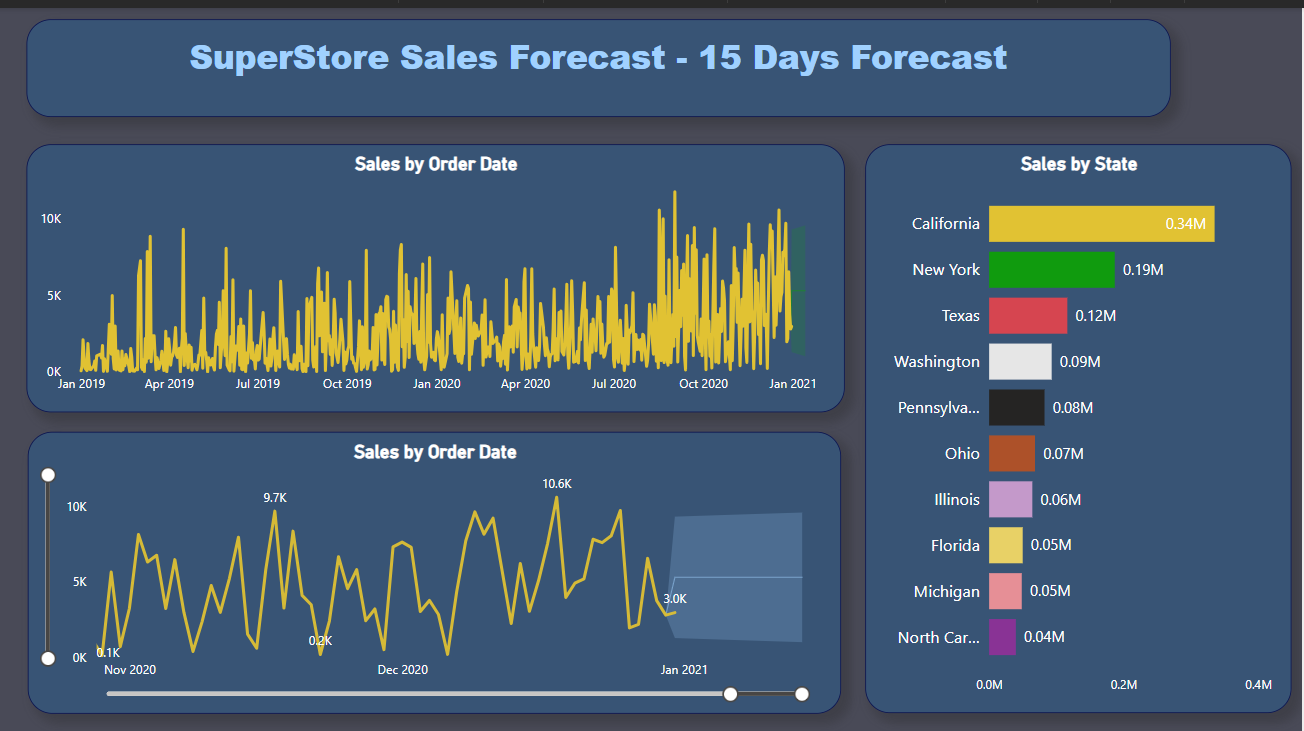

The dashboard page shown, as its layout file describes it:
{"tool":"powerbi","page":{"name":"Sales Forcasting","canvas":[1280,720],"ordinal":1},"visuals":[{"type":"lineChart","title":"Sales by Order Date","fields":{"Y":["Sum(SuperStore_Sales_Dataset.Sales)"],"Category":["SuperStore_Sales_Dataset.Order Date"]},"box":[27.1,134.3,802.9,262.9],"z":0},{"type":"lineChart","title":"Sales by Order Date","fields":{"Y":["Sum(SuperStore_Sales_Dataset.Sales)"],"Category":["SuperStore_Sales_Dataset.Order Date"]},"box":[28.6,415.7,798.6,277.1],"z":1000},{"type":"textbox","box":[27.1,11.4,1122.9,95.7],"z":1001},{"type":"barChart","title":"Sales by State","fields":{"Y":["Sum(SuperStore_Sales_Dataset.Sales)"],"Category":["SuperStore_Sales_Dataset.State"]},"box":[850,134.3,418.6,558.6],"z":1002}]}

Visuals, with their boxes in screenshot pixels (x1, y1, x2, y2), scaled from the page's 1280x720 canvas onto the 1304x731 screenshot:
"Sales by Order Date" lineChart: region(28, 136, 846, 403)
"Sales by Order Date" lineChart: region(29, 422, 843, 703)
textbox: region(28, 12, 1172, 109)
"Sales by State" barChart: region(866, 136, 1292, 703)
